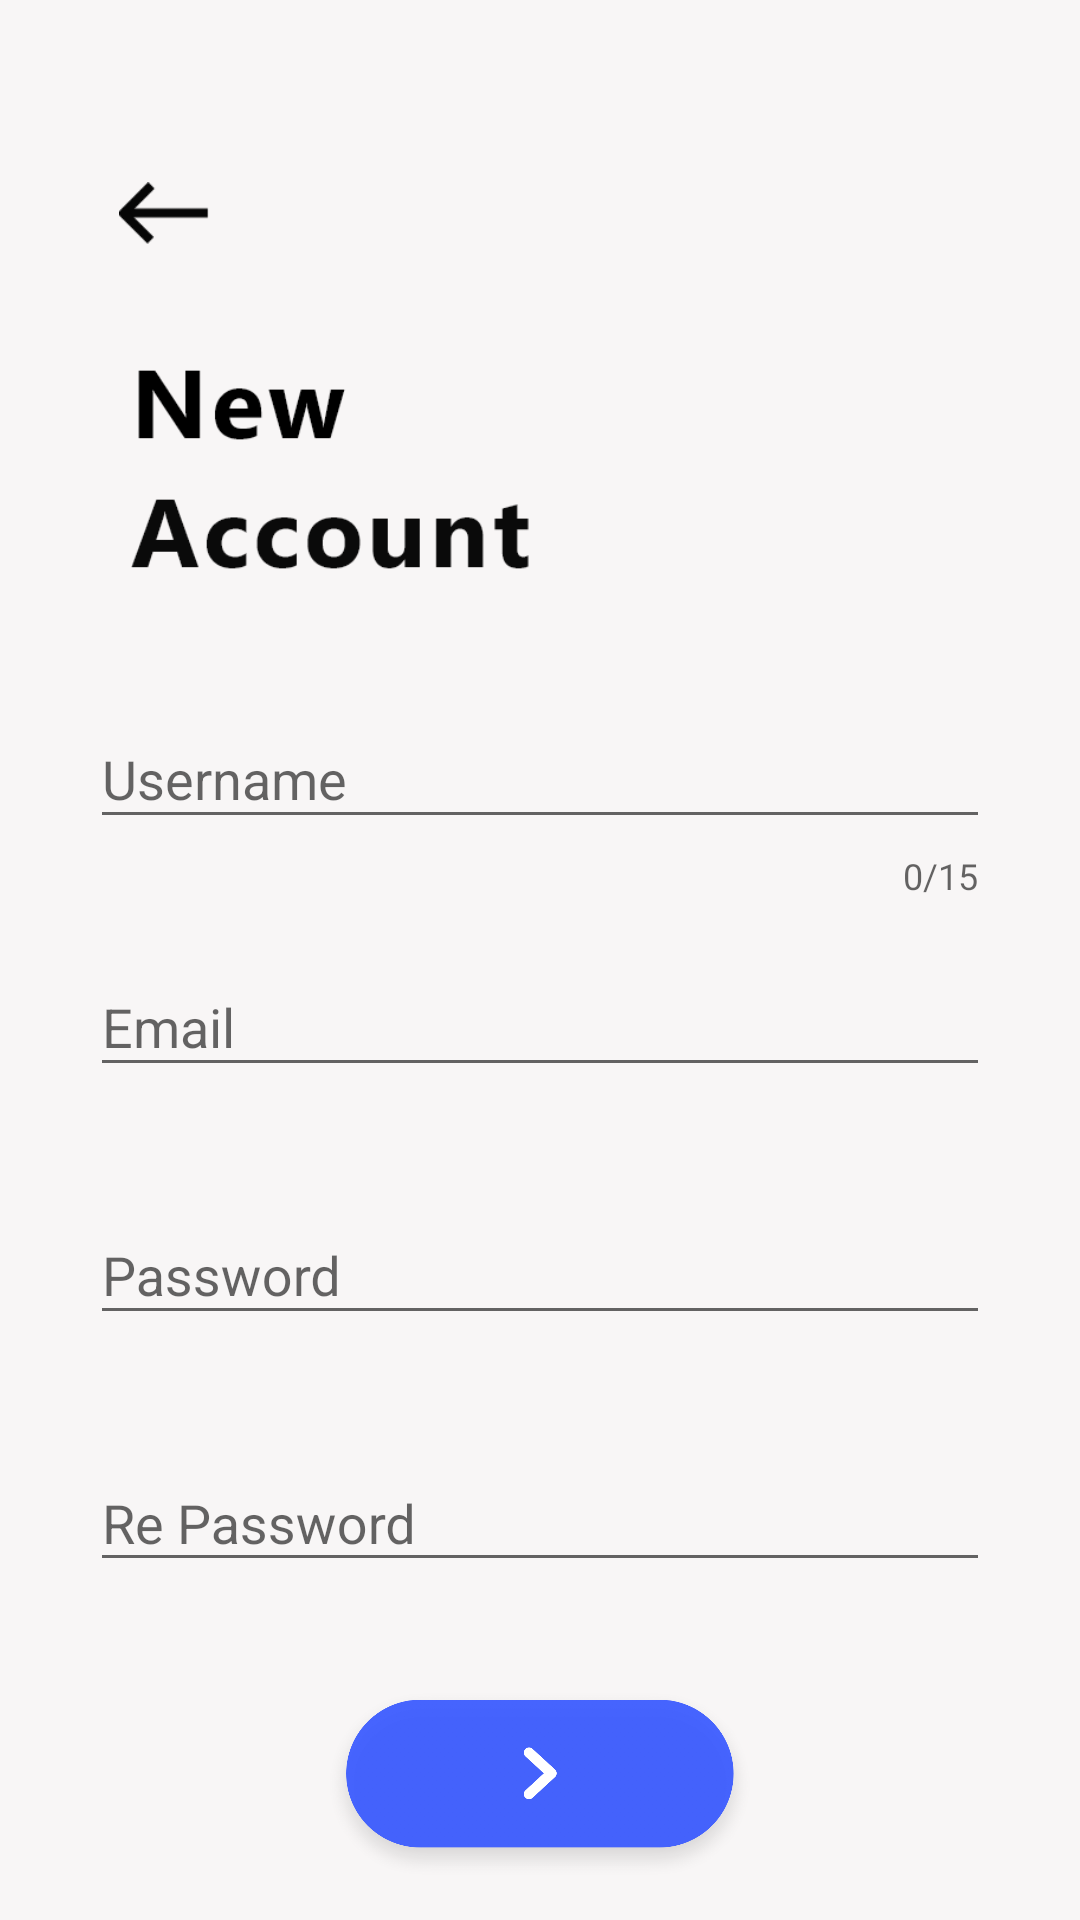

Icon bounding boxes for this 1080x1920 phone screenshot, format BBox(x1, y1, x2, y2):
back arrow: BBox(119, 182, 208, 244)
